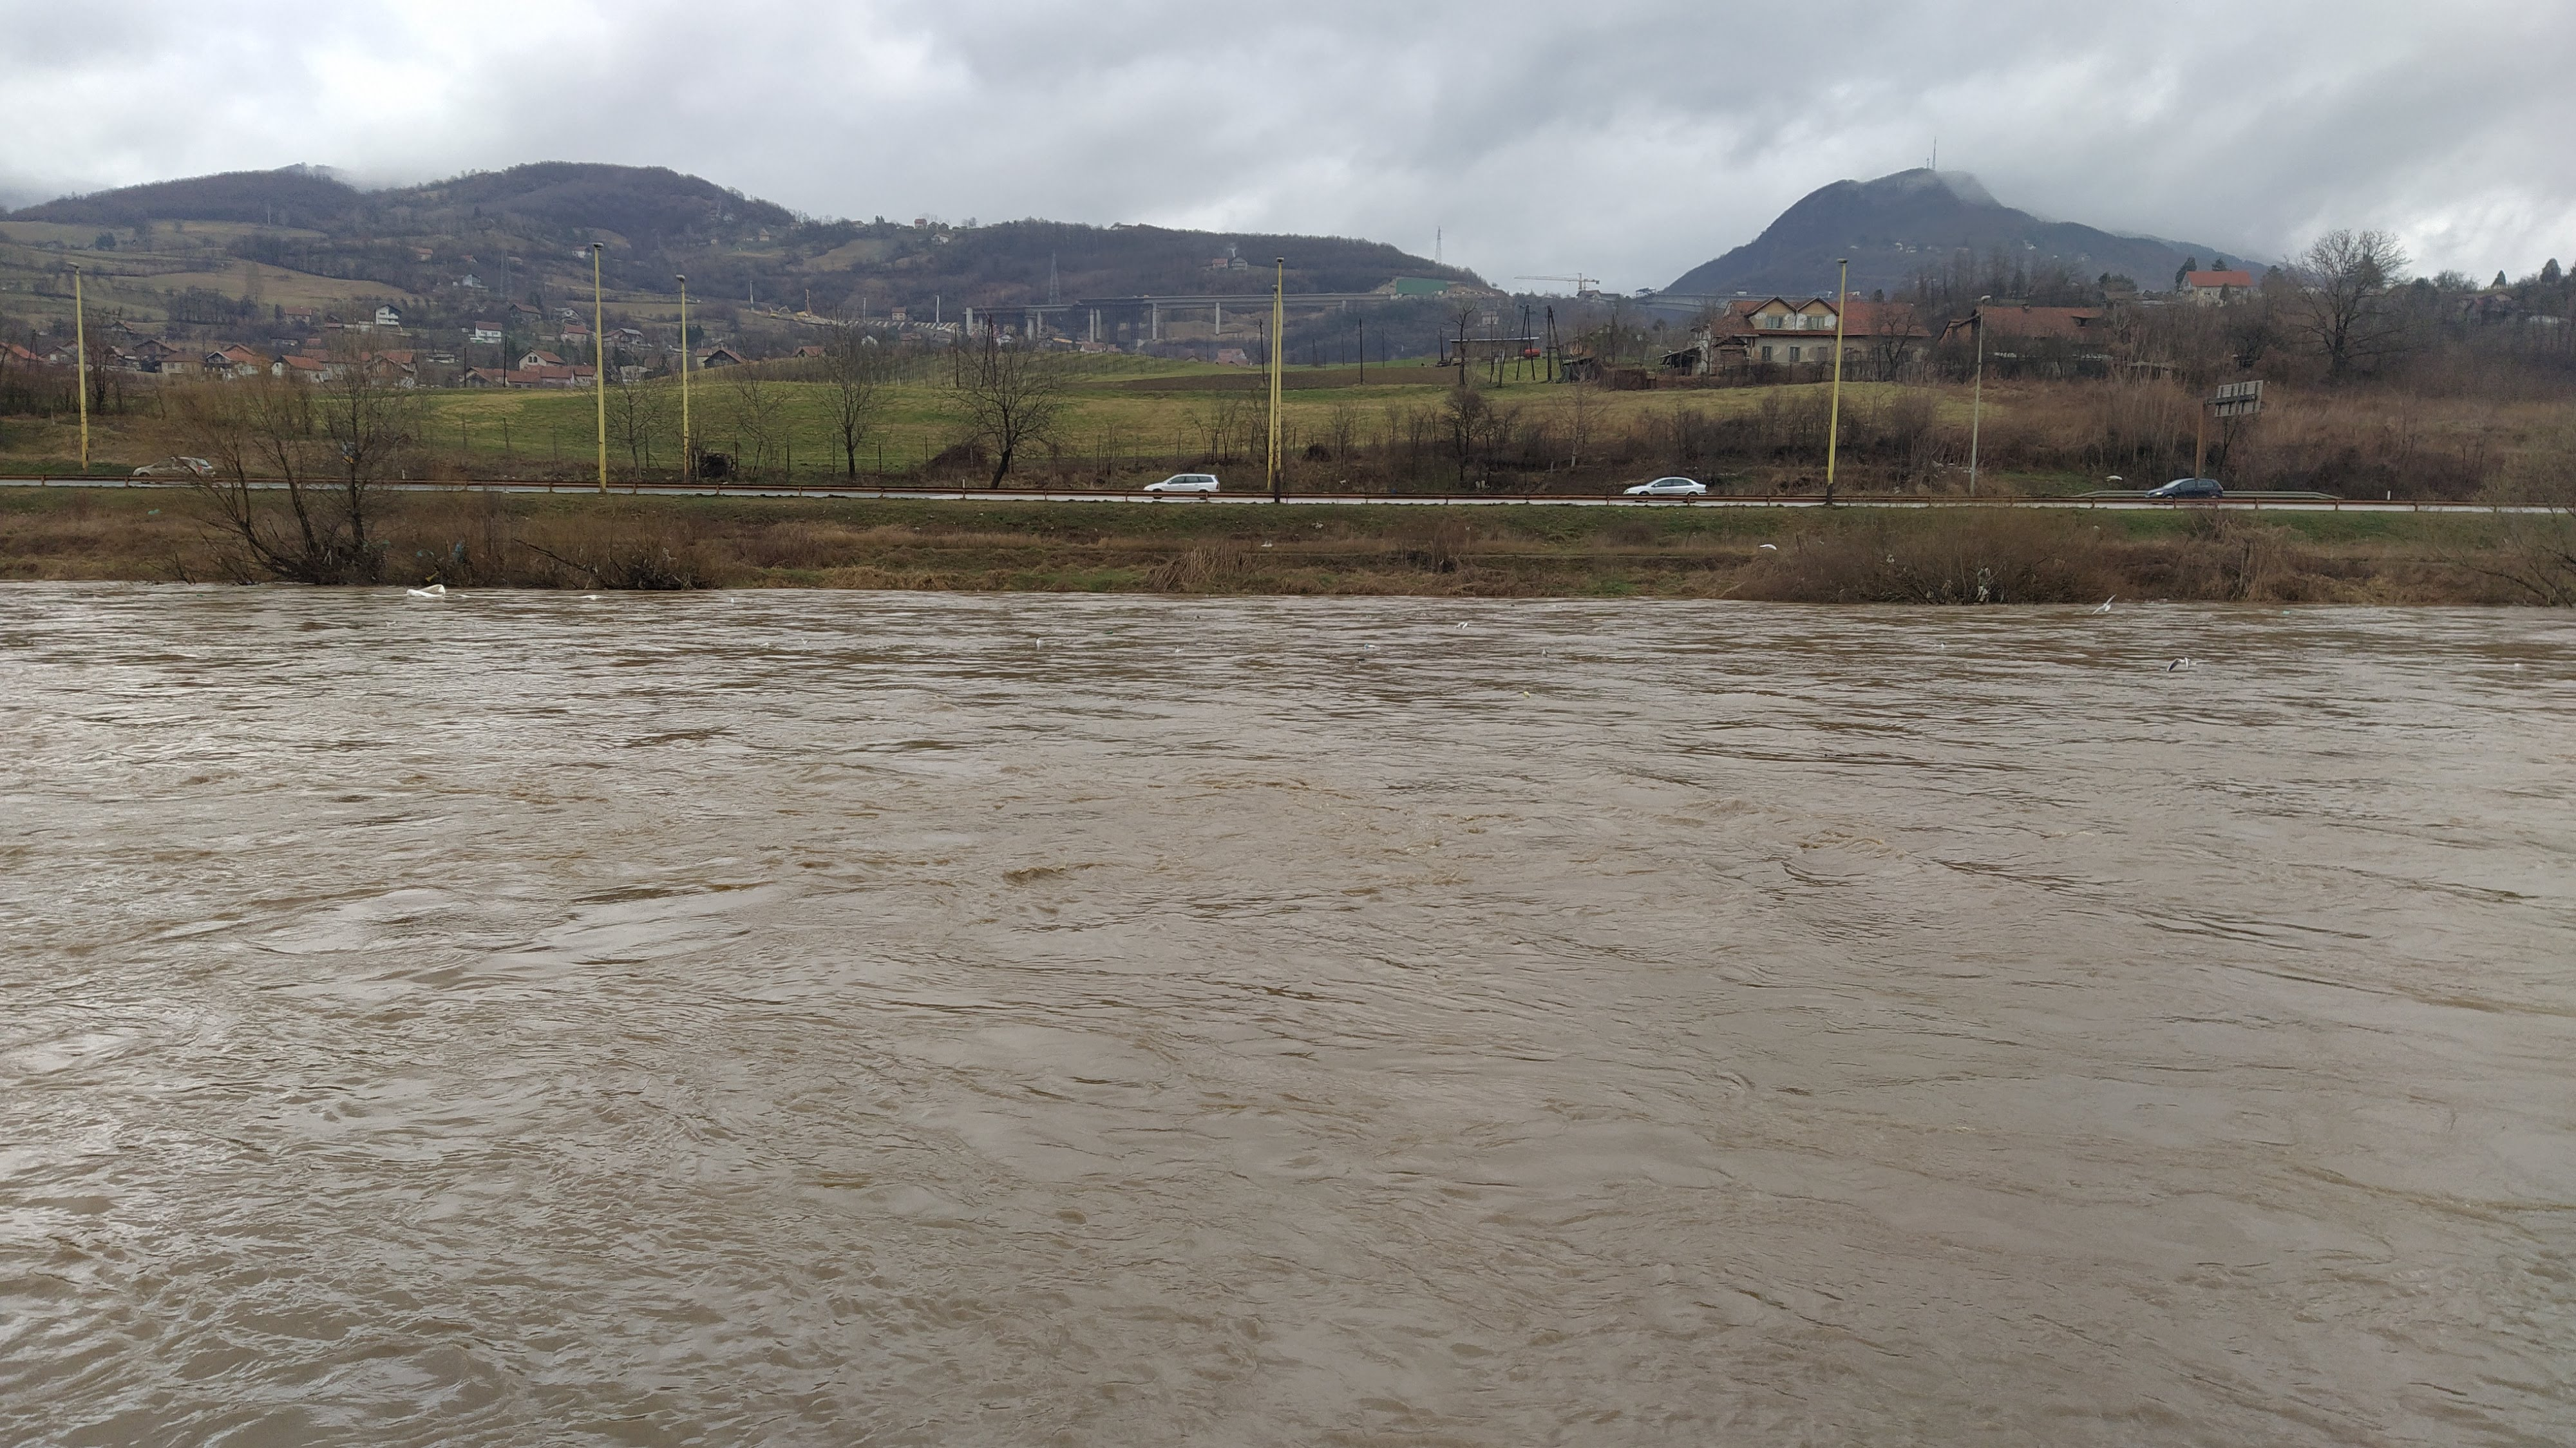Plastic Bottle: (196, 593, 203, 597), (1104, 630, 1111, 634), (1364, 644, 1375, 646), (1525, 692, 1529, 697)
